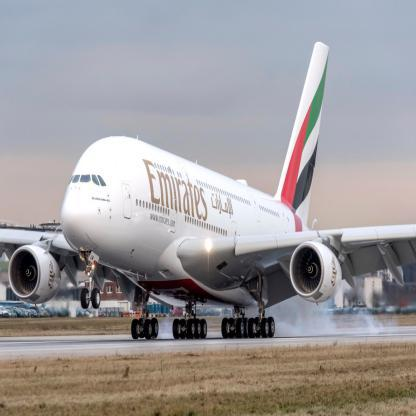CIV_Plane: (2, 40, 416, 345)
